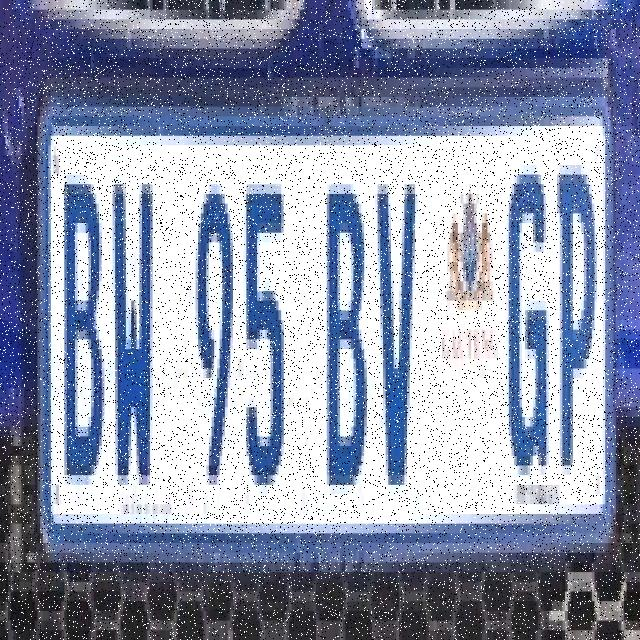licenseplate: (32, 67, 622, 596)
